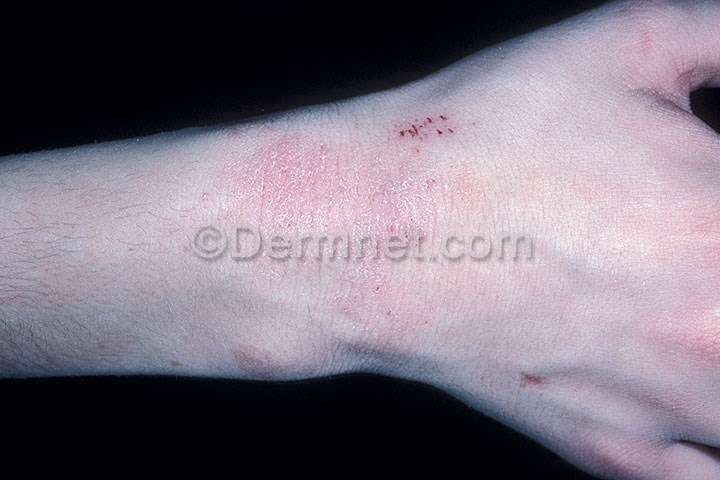Eczema: (178, 93, 514, 372), (579, 16, 684, 83), (517, 358, 561, 405)
